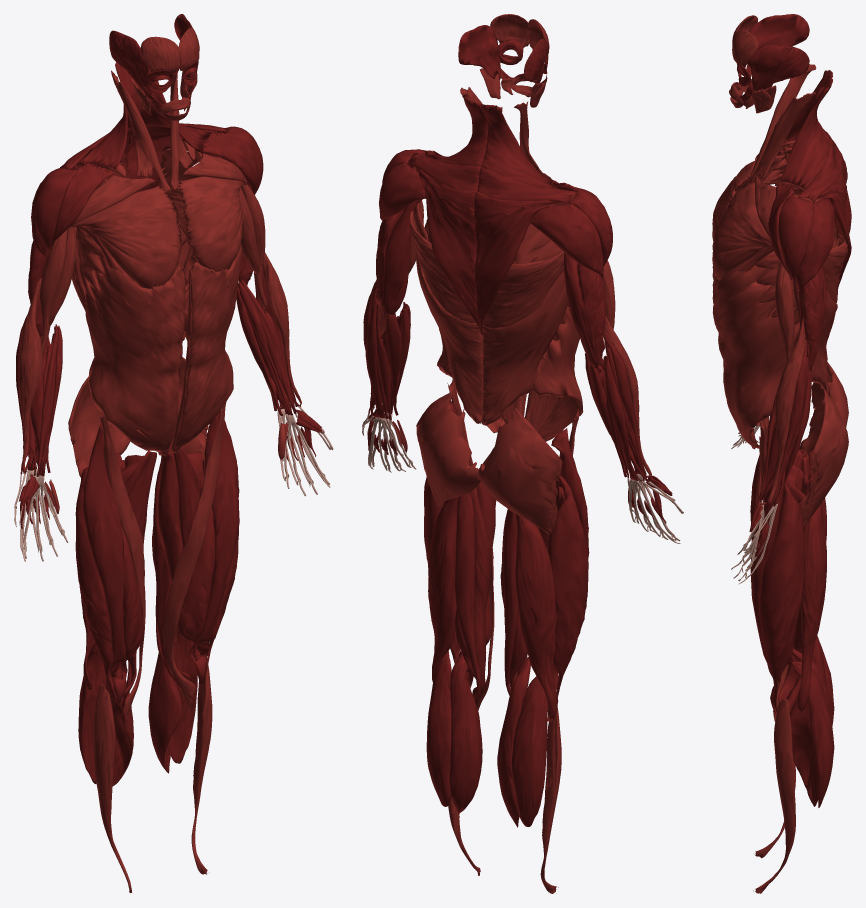
The model's file is muscles.glb.
3 views of the same model, side by side, from view 1: azimuth 30°, elevation 25°; view 2: azimuth 150°, elevation 25°; view 3: azimuth 270°, elevation 25° (orthographic).
Visible parts, largest first — view 1: external_oblique_right, quadriceps_femoris_right, pectoralis_major_right, quadriceps_femoris_left, external_oblique_left, pectoralis_major_left, gastrocnemius_left, adductors_left, sartorius_left, deltoid_right, gastrocnemius_right, forearm_flexors_left (+32 smaller); view 2: latissimus_dorsi_right, hamstrings_left, trapezius_right, hamstrings_right, trapezius_left, gastrocnemius_left, quadriceps_femoris_right, gluteus_maximus_right, gastrocnemius_right, latissimus_dorsi_left, gluteus_maximus_left, deltoid_right (+20 smaller); view 3: external_oblique_left, quadriceps_femoris_left, deltoid_left, hamstrings_left, trapezius_left, pectoralis_major_left, gastrocnemius_left, temporalis, gluteus_maximus_left, tibialis_anterior_left, latissimus_dorsi_left, brachioradialis_left (+20 smaller).
Boxes of the visible parts, x1,y1,x2,y2 form: external_oblique_right: [84, 256, 185, 451]; quadriceps_femoris_right: [75, 422, 143, 704]; pectoralis_major_right: [69, 175, 181, 307]; quadriceps_femoris_left: [177, 410, 239, 685]; external_oblique_left: [169, 244, 241, 449]; pectoralis_major_left: [178, 153, 247, 288]; gastrocnemius_left: [148, 629, 197, 773]; adductors_left: [158, 446, 203, 643]; sartorius_left: [164, 402, 226, 707]; deltoid_right: [31, 163, 114, 256]; gastrocnemius_right: [78, 643, 133, 785]; forearm_flexors_left: [236, 279, 296, 415]; latissimus_dorsi_right: [481, 245, 568, 425]; hamstrings_left: [428, 487, 490, 703]; trapezius_right: [474, 104, 576, 334]; hamstrings_right: [500, 509, 558, 721]; trapezius_left: [408, 98, 487, 334]; gastrocnemius_left: [426, 651, 482, 813]; quadriceps_femoris_right: [547, 428, 589, 712]; gluteus_maximus_right: [478, 407, 562, 534]; gastrocnemius_right: [497, 657, 548, 827]; latissimus_dorsi_left: [409, 203, 483, 423]; gluteus_maximus_left: [416, 392, 480, 508]; deltoid_right: [530, 179, 612, 277]; external_oblique_left: [712, 265, 799, 448]; quadriceps_femoris_left: [750, 476, 804, 713]; deltoid_left: [768, 184, 835, 290]; hamstrings_left: [778, 472, 826, 713]; trapezius_left: [780, 79, 851, 286]; pectoralis_major_left: [712, 176, 775, 295]; gastrocnemius_left: [790, 648, 834, 807]; temporalis: [747, 14, 809, 90]; gluteus_maximus_left: [800, 389, 848, 526]; tibialis_anterior_left: [753, 698, 795, 893]; latissimus_dorsi_left: [792, 233, 847, 396]; brachioradialis_left: [767, 315, 805, 503].
Size of the model in its own units: 0.6388 by 1.65 by 0.2439.
